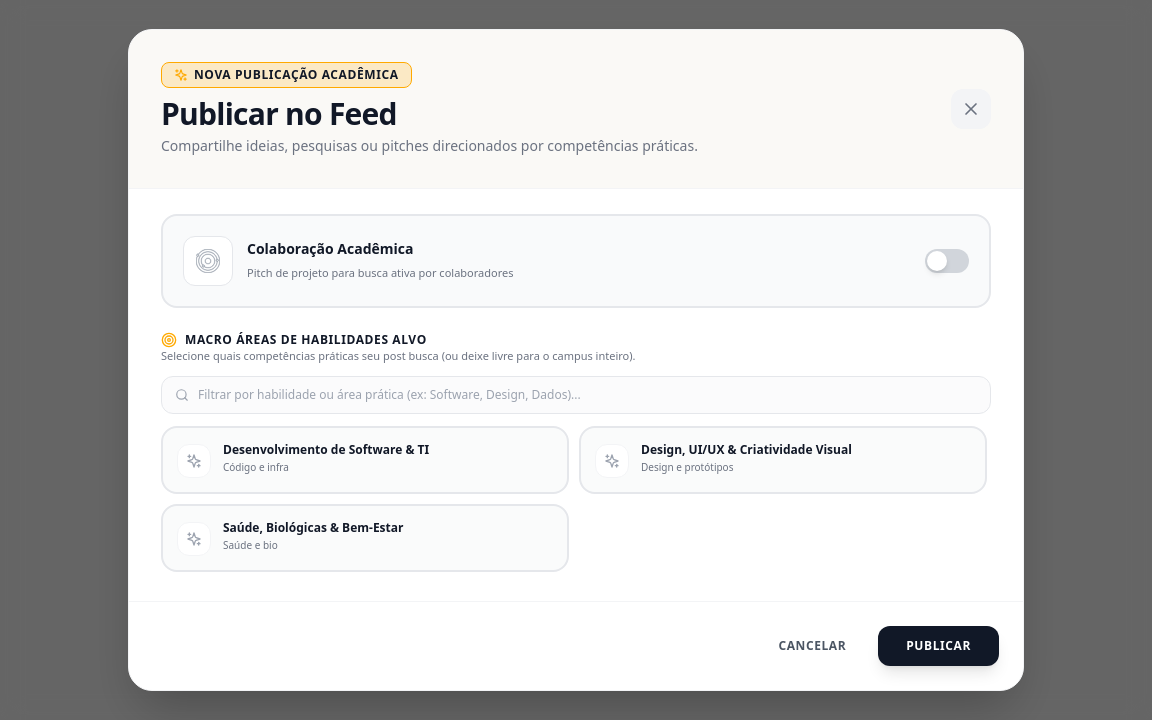
Test case: CreatePostModal Component › deve permitir filtrar macro áreas pelo campo de busca
This screenshot has width=1152, height=720.
(page scrolled)
Expected: the text "Desenvolvimento de Software & TI" is shown, [223,442,429,457]
Expected: the text "Saúde, Biológicas & Bem-Estar" is shown, [223,520,404,535]
Replace the text in the field with placeholder "Filtrar por habilidade" with "Saúde" at (576, 395), box [161,376,991,414]
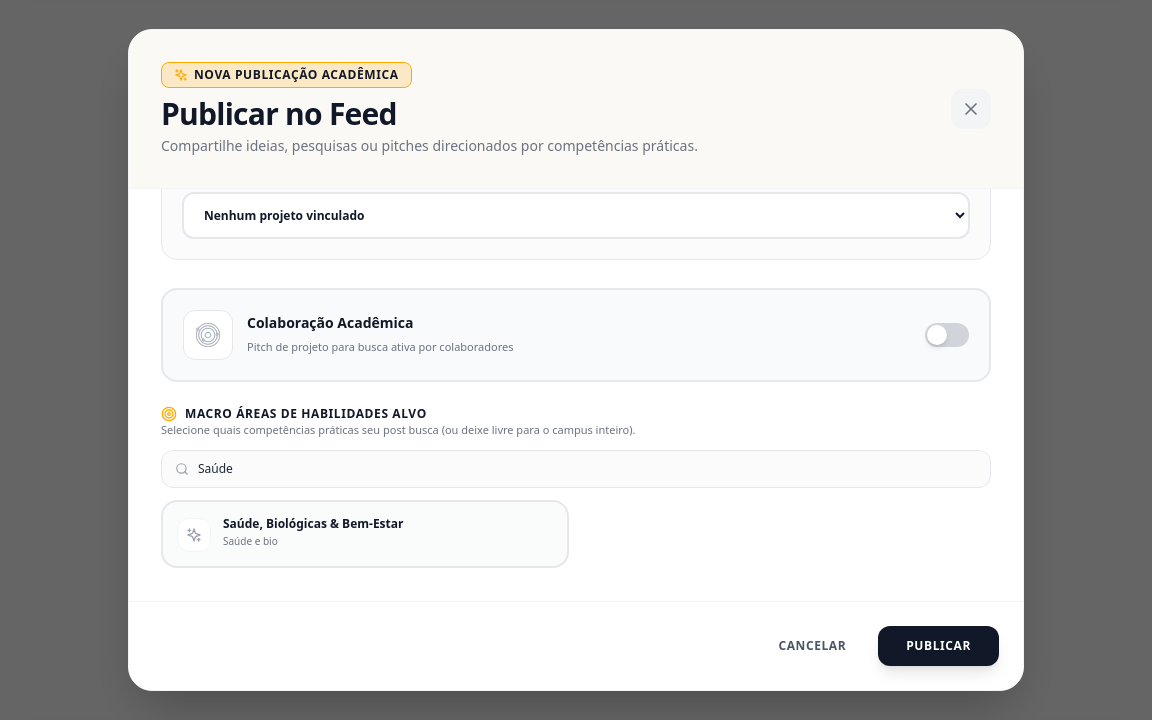
Expected: the text "Saúde, Biológicas & Bem-Estar" is shown, [223,516,404,531]
Result: the text "Desenvolvimento de Software & TI" is gone
